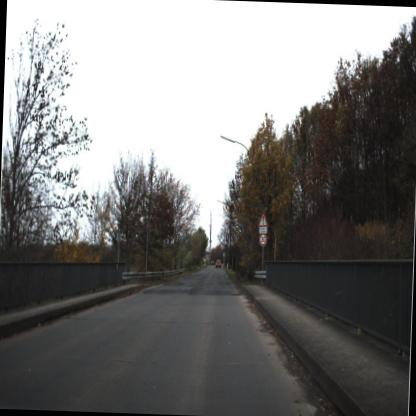danger: (256, 208, 270, 230)
prohibitory: (259, 232, 270, 246)
